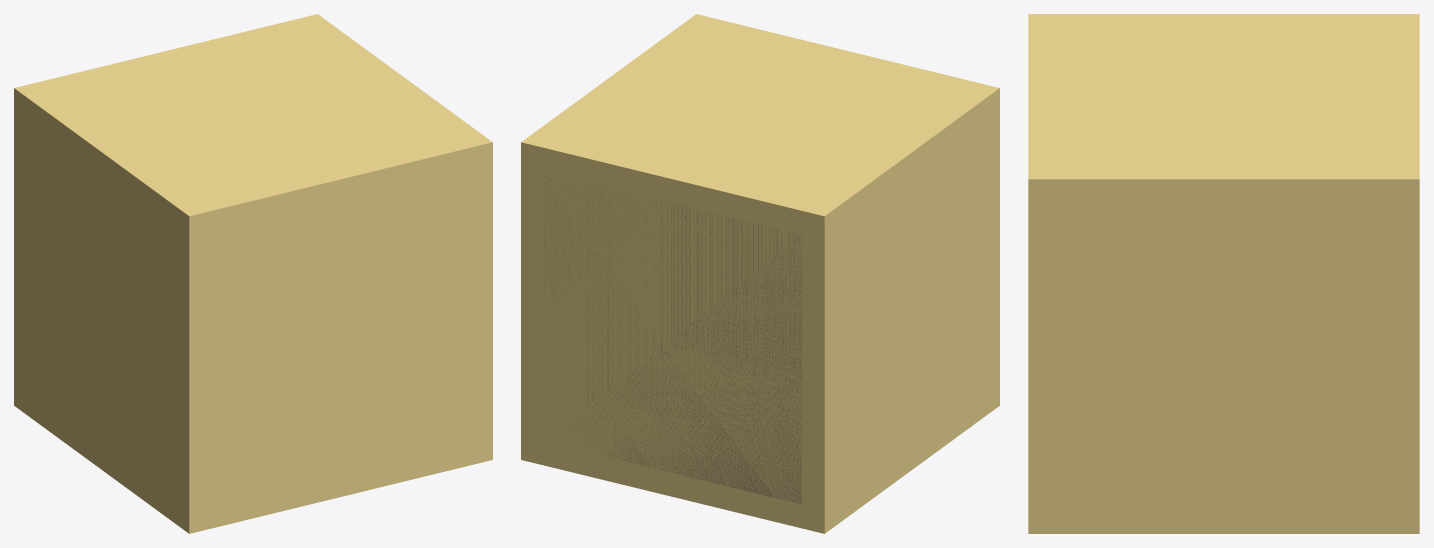
The model's file is 59_sunwheel.glb.
3 views of the same model, side by side, from view 1: azimuth 30°, elevation 25°; view 2: azimuth 150°, elevation 25°; view 3: azimuth 270°, elevation 25° (orthographic). The views are drawn at different scales.
Parts seen in each view (by area): view 1: Core; view 2: Core, Soil; view 3: Core.
Part boxes in pixels (left/top/right/bottom): Core: left=14, top=14, right=492, bottom=533; Core: left=521, top=14, right=999, bottom=533; Soil: left=544, top=173, right=801, bottom=503; Core: left=1028, top=14, right=1419, bottom=533.
Size of the model in its own units: 1 by 1 by 1.
